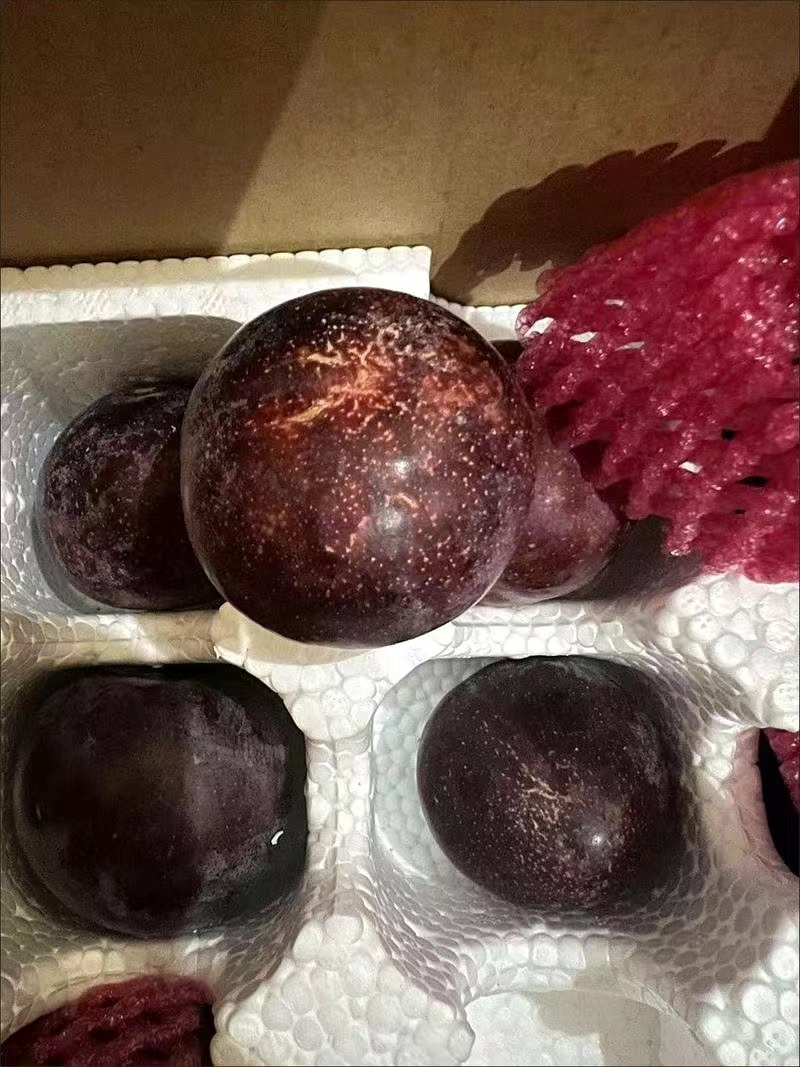plum_A: (178, 286, 532, 650), (11, 672, 302, 937), (417, 657, 682, 916), (39, 384, 244, 610)
